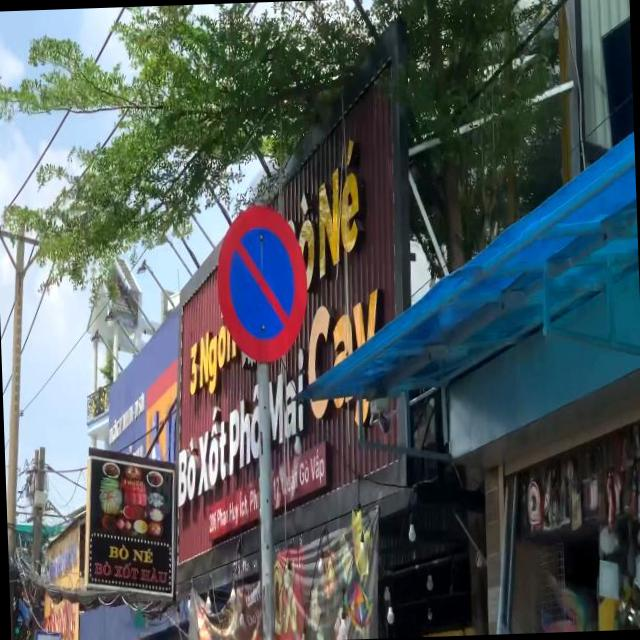P-131a: (215, 203, 308, 366)
